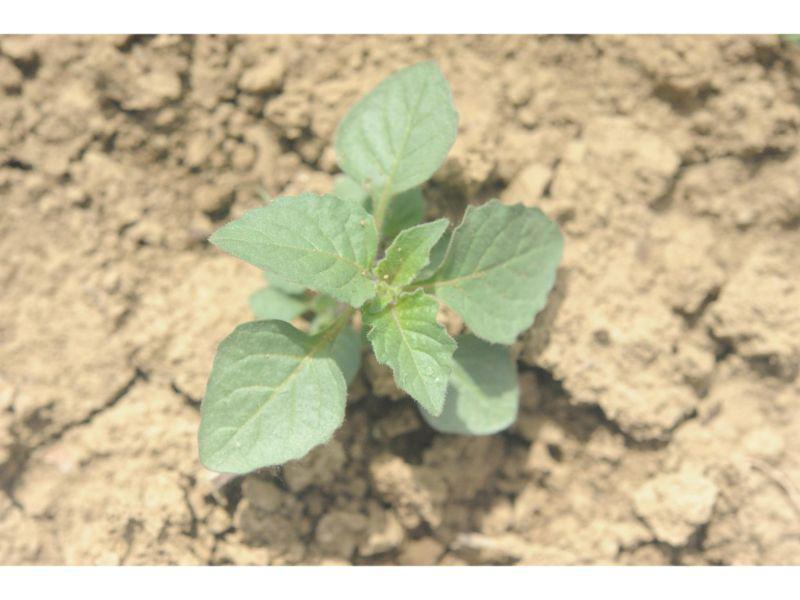nightshade: (199, 59, 560, 476)
